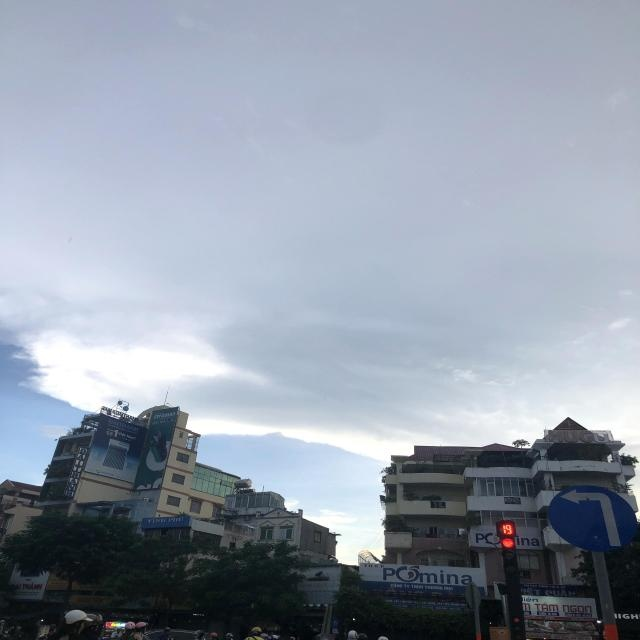bien_chi_dan: (550, 482, 637, 550)
